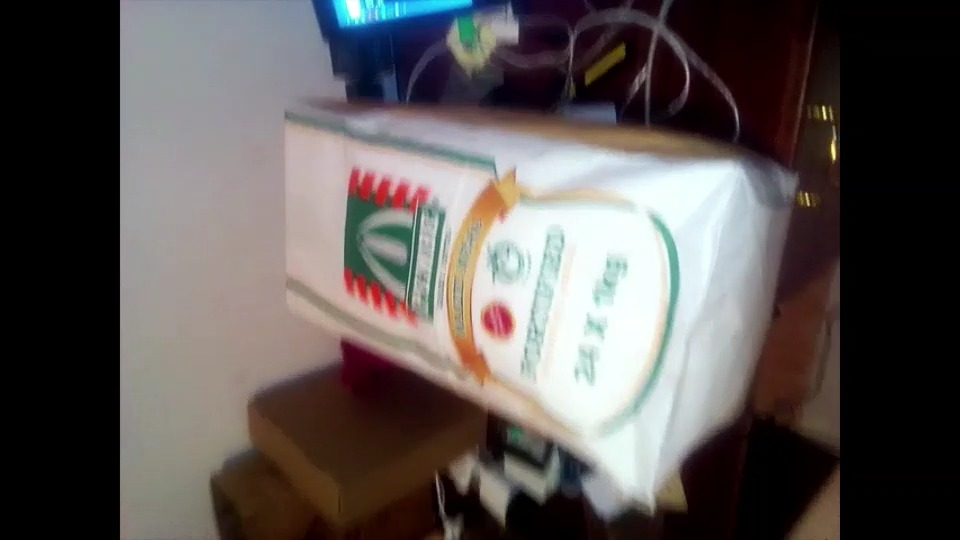maize_flour_green_label: (265, 108, 793, 481)
